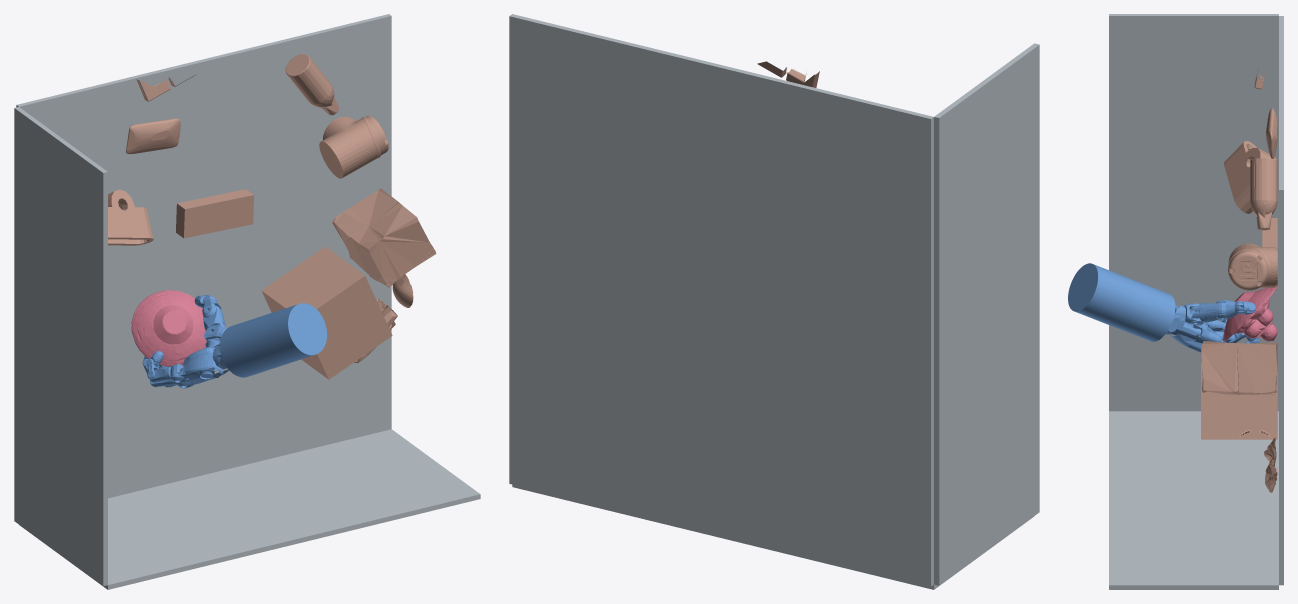
The picture shows the model from 3 angles, left to right: view 1: azimuth 30°, elevation 25°; view 2: azimuth 150°, elevation 25°; view 3: azimuth 270°, elevation 25°; orthographic projection. The views are drawn at different scales.
Parts seen in each view (by area): view 1: environment, hand, obstacle_005, obstacle_007, world, obstacle_006, obstacle_000, obstacle_004, obstacle_008, obstacle_001; view 2: environment; view 3: environment, hand, obstacle_005, obstacle_007, obstacle_006, world, obstacle_008, obstacle_004, obstacle_003, obstacle_001, obstacle_000.
Part boxes in pixels (x1=…): environment: x1=14, y1=14, x2=480, y2=589; hand: x1=142, y1=295, x2=326, y2=388; obstacle_005: x1=261, y1=246, x2=392, y2=379; obstacle_007: x1=332, y1=188, x2=436, y2=287; world: x1=131, y1=290, x2=206, y2=366; obstacle_006: x1=319, y1=116, x2=388, y2=178; obstacle_000: x1=176, y1=189, x2=254, y2=238; obstacle_004: x1=108, y1=189, x2=153, y2=245; obstacle_008: x1=285, y1=54, x2=339, y2=115; obstacle_001: x1=126, y1=118, x2=180, y2=154; environment: x1=509, y1=14, x2=1039, y2=589; environment: x1=1109, y1=14, x2=1283, y2=589; hand: x1=1068, y1=263, x2=1259, y2=352; obstacle_005: x1=1201, y1=360, x2=1277, y2=439; obstacle_007: x1=1201, y1=341, x2=1277, y2=394; obstacle_006: x1=1228, y1=243, x2=1277, y2=290; world: x1=1223, y1=286, x2=1277, y2=341; obstacle_008: x1=1250, y1=158, x2=1277, y2=230; obstacle_004: x1=1224, y1=141, x2=1276, y2=213; obstacle_003: x1=1264, y1=438, x2=1277, y2=492; obstacle_001: x1=1266, y1=108, x2=1277, y2=158; obstacle_000: x1=1262, y1=218, x2=1277, y2=248.
Bounding box in the file's own units: 0.6636 × 0.7053 × 0.3385.
